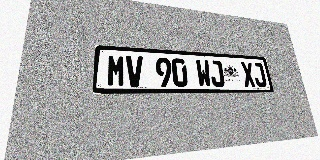0: (171, 58, 188, 87)
9: (155, 57, 173, 87)
J: (209, 60, 225, 87), (252, 62, 267, 87)
M: (107, 54, 125, 87)
V: (126, 55, 144, 87)
W: (195, 59, 212, 87)
X: (240, 62, 256, 87)
